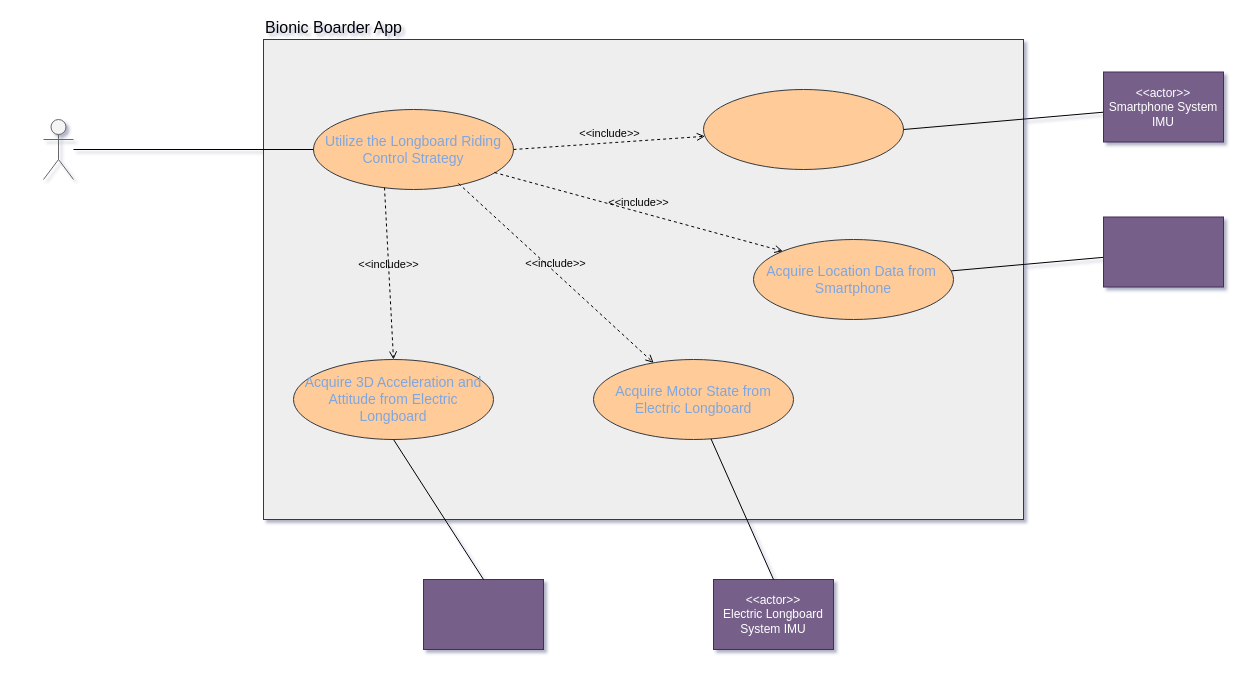
Image size: 1247x673. Some labels were removed from this diagram. The centre of each missing label's shape, as x and y in pixels:
<<actor>> Electric Longboard System VESC: the point at 483,614
<<actor>> Smartphone System GPS: the point at 1163,251
Acquire 3D Acceleration Data of Smartphone: the point at 803,129
Longboard Rider: the point at 58,149
